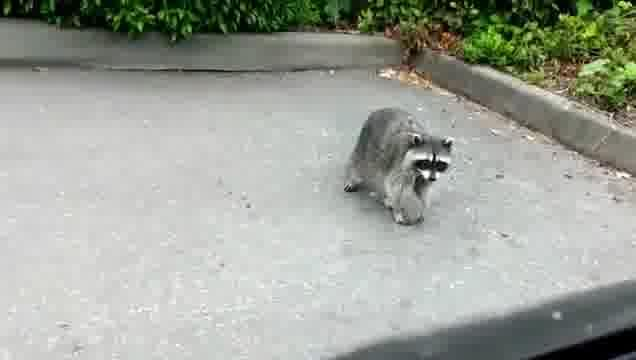raccoon: (341, 104, 457, 230)
